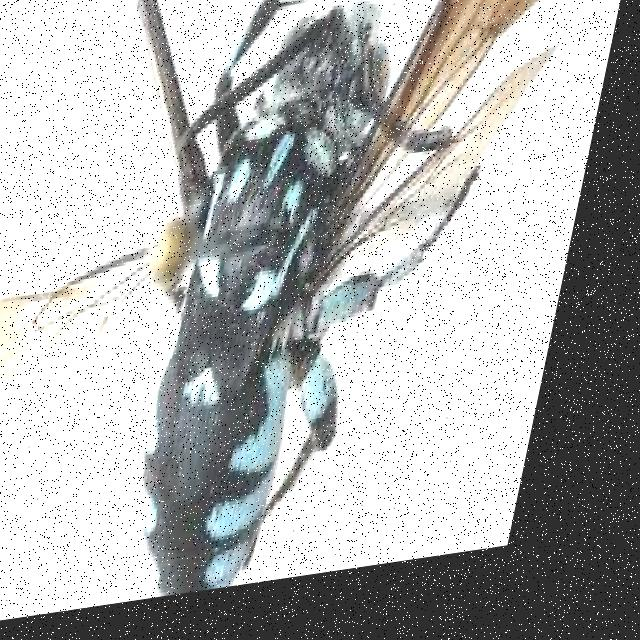Thyreus: (2, 0, 566, 627)
